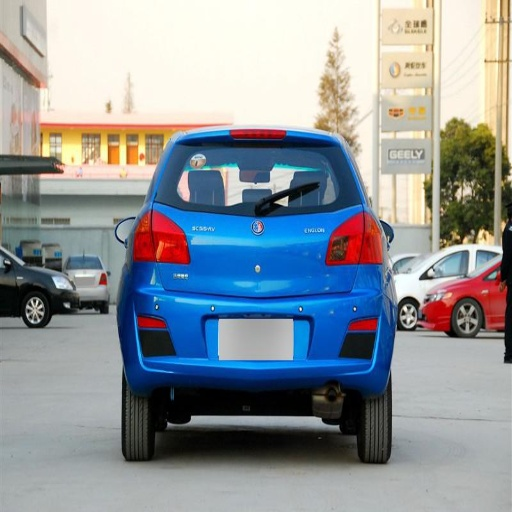back_bumper: (118, 265, 393, 396)
trunk: (151, 206, 366, 322)
